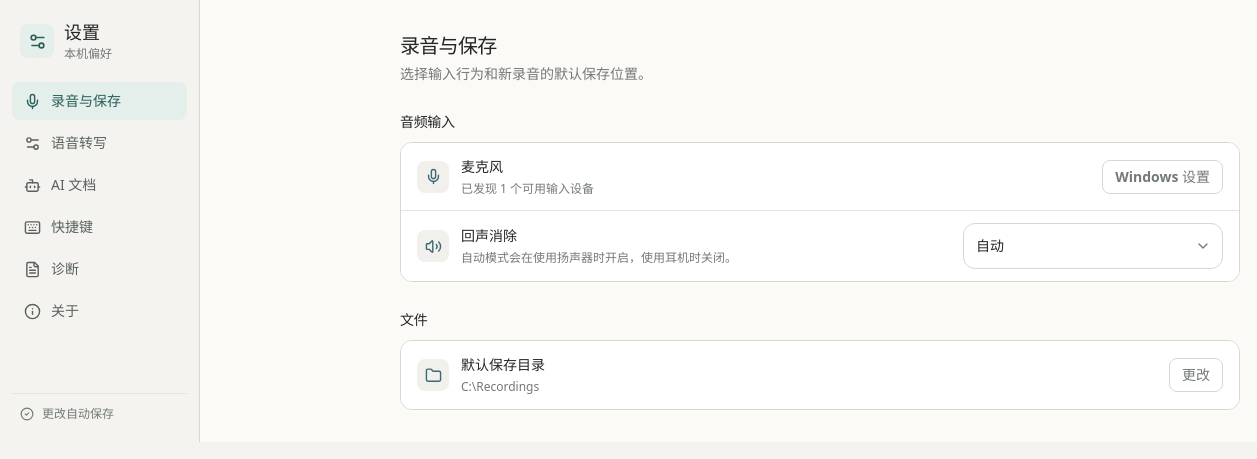
it: SettingsWorkspace navigation and preferences › rolls back an optimistic preference when persistence fails
Select "强制关闭" in the dropdown named "回声消除" at (1093, 246), box [963,223,1223,269]
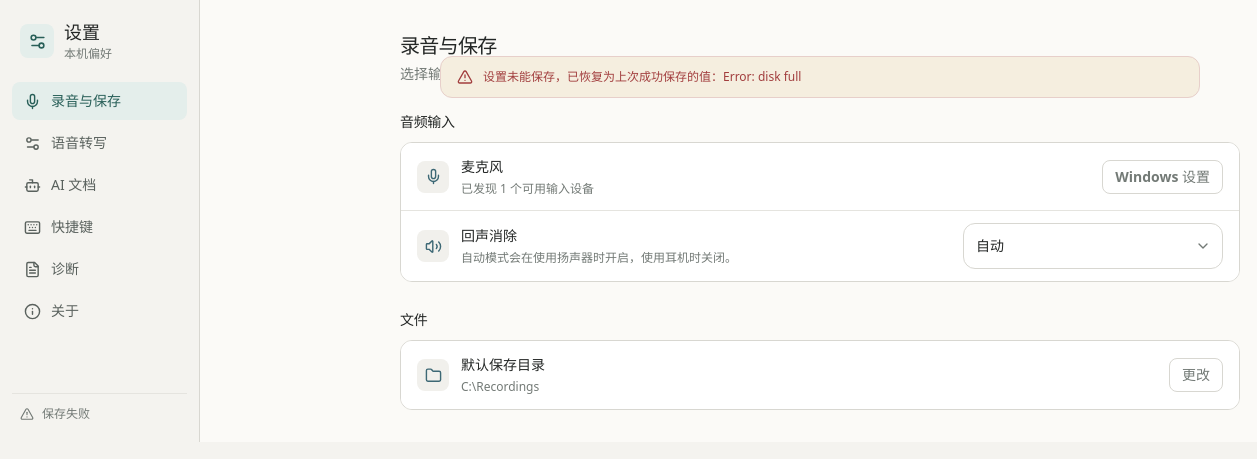
expect the message shows "disk full": met, box [723,68,801,85]
